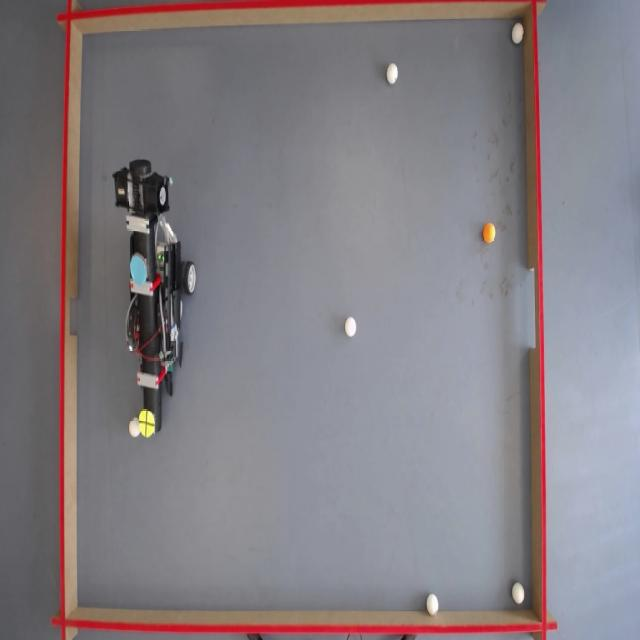orange: (484, 225, 498, 245)
robot: (119, 158, 197, 433)
robot-front: (137, 408, 155, 439)
robot-rear: (130, 254, 149, 287)
white: (513, 584, 527, 606), (512, 24, 526, 46), (426, 593, 440, 615), (345, 316, 358, 338), (386, 64, 399, 85), (129, 416, 139, 438)
